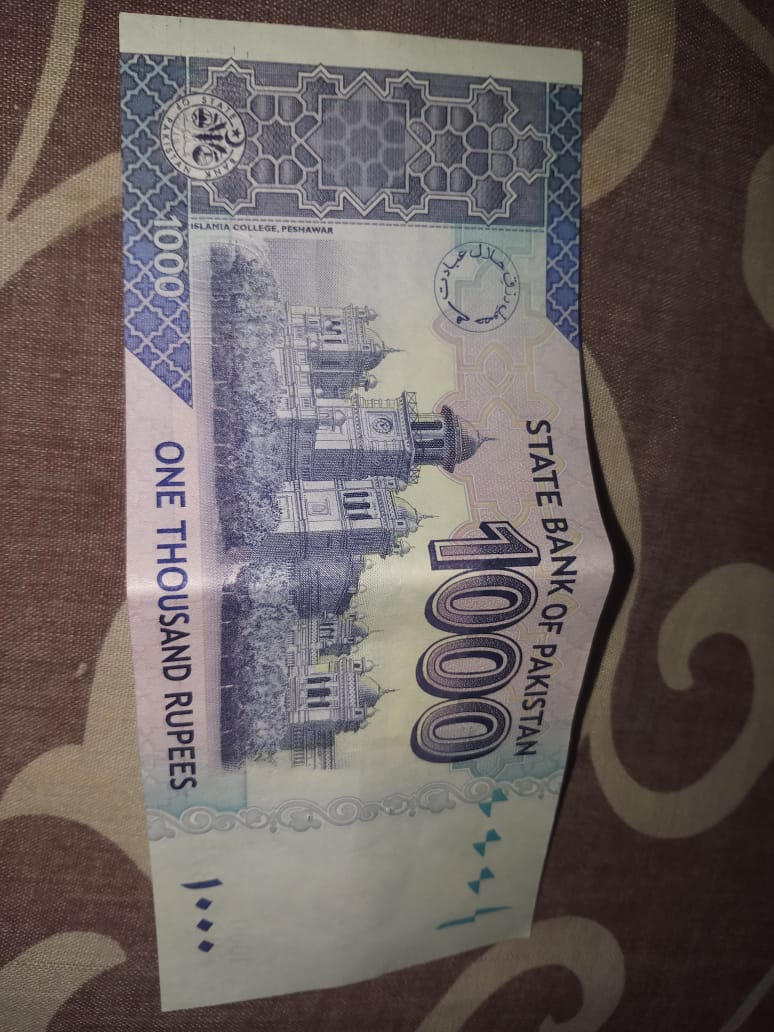1000 rupee: (97, 22, 640, 1032)
